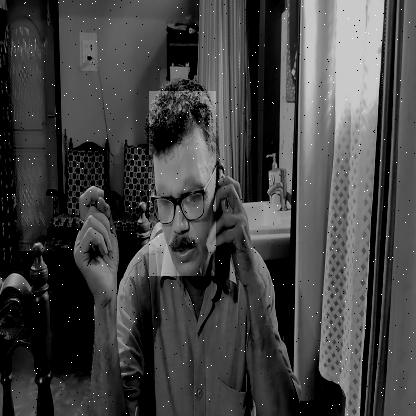Normal: (149, 91, 216, 276)
